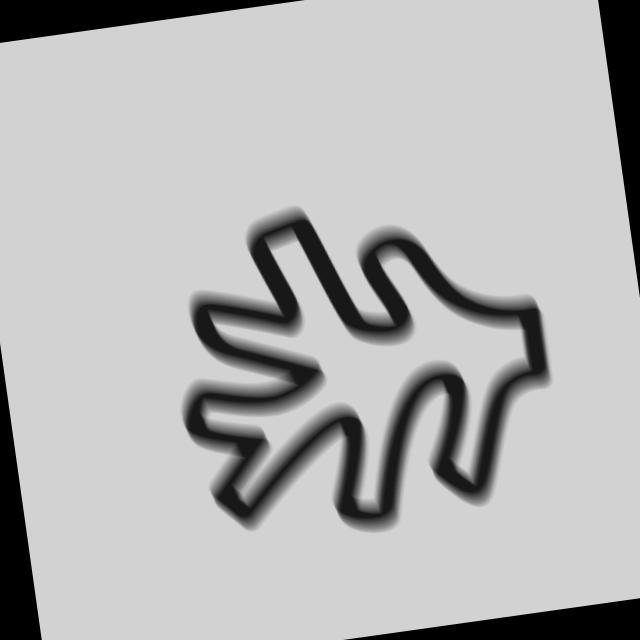coral: (151, 165, 580, 563)
